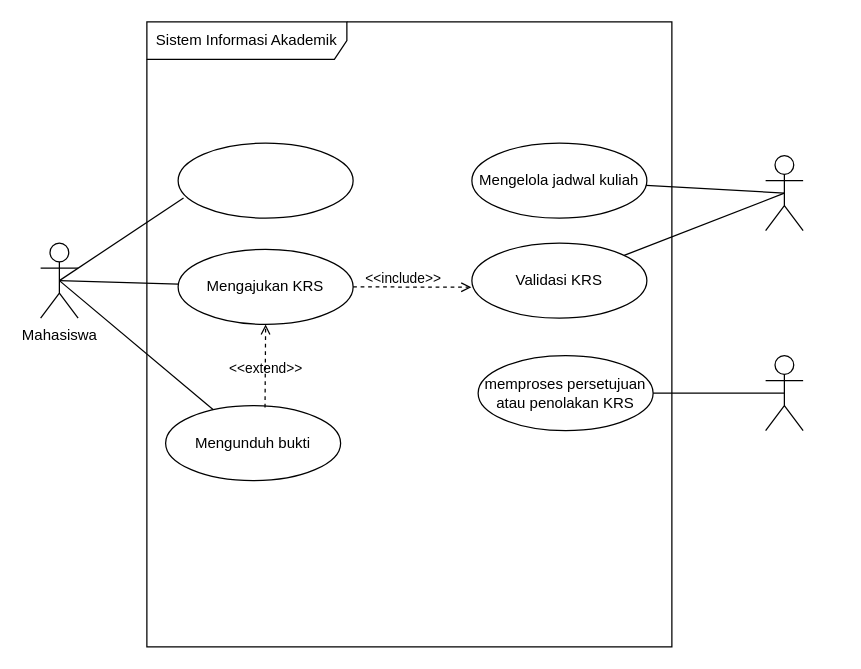
This 861x669 diagram has some shape labels left out. Here are the shapes that lost their labels. From the top down, the centre of each, then its label:
At (x=265, y=180): "Mengakses jadwal kuliah".
At (x=783, y=192): "Admin Akademik".
At (x=783, y=392): "Dosen Wali".
